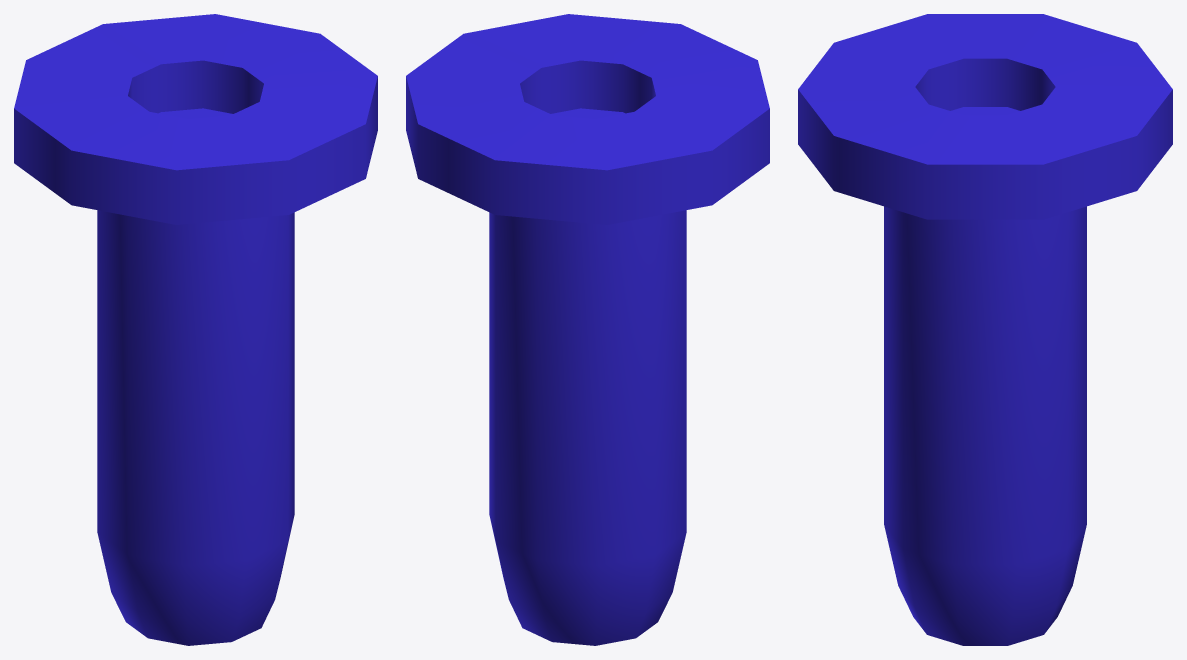
File: screw.fbx
3 renders of one model, left to right at view 1: azimuth 30°, elevation 25°; view 2: azimuth 150°, elevation 25°; view 3: azimuth 270°, elevation 25°, orthographic.
Parts seen in each view (by area): view 1: screw; view 2: screw; view 3: screw.
Part boxes in pixels (box(x1,y1,x2,y2)): screw: box(14, 14, 377, 645); screw: box(406, 14, 769, 645); screw: box(798, 14, 1172, 645).
Size of the model in its own units: 37.42 by 61.39 by 39.34.
